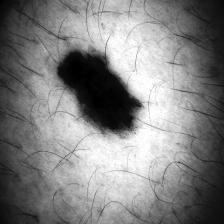Benign Marking or Mole: (57, 51, 144, 135)
